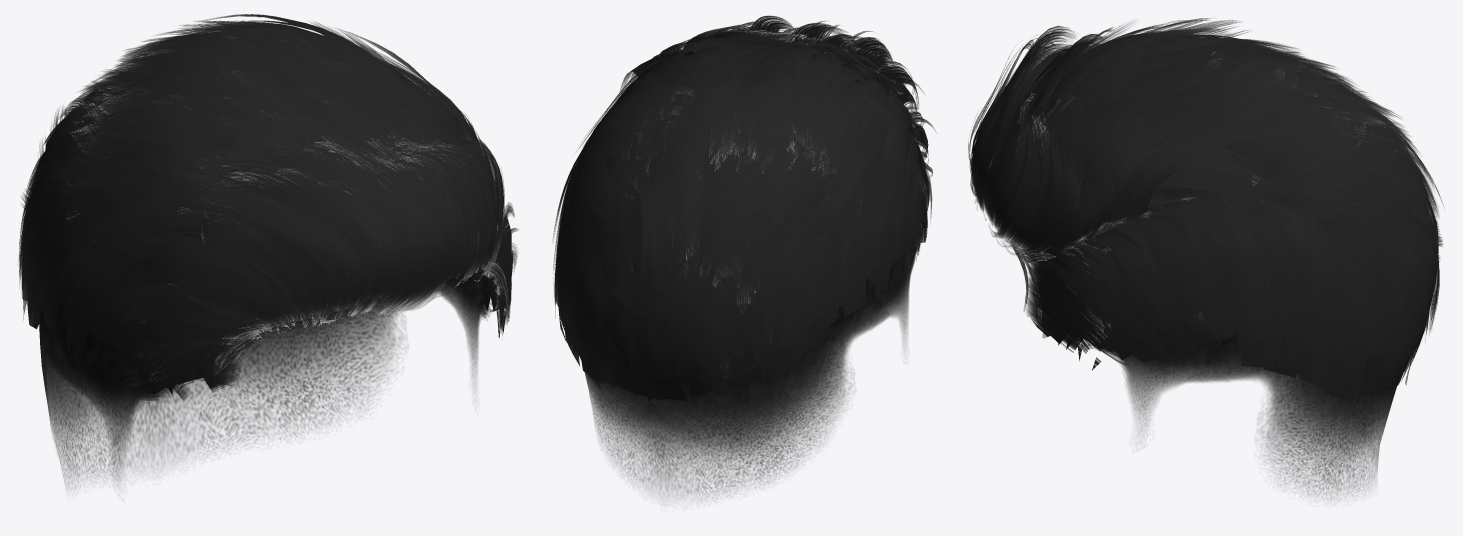
Rendered from oval_straight_quiff.glb.
3 views of the same model, side by side, from view 1: azimuth 30°, elevation 25°; view 2: azimuth 150°, elevation 25°; view 3: azimuth 270°, elevation 25° (orthographic). The views are drawn at different scales.
Visible parts, largest first — view 1: Quiff.001, Scalp; view 2: Quiff.001, Scalp; view 3: Quiff.001, Scalp.
Part boxes in pixels (bbox=[...]): Quiff.001: bbox=[19, 14, 518, 400]; Scalp: bbox=[39, 266, 490, 488]; Quiff.001: bbox=[552, 15, 936, 401]; Scalp: bbox=[584, 160, 916, 499]; Quiff.001: bbox=[968, 18, 1443, 400]; Scalp: bbox=[1021, 198, 1396, 500].
Size of the model in its own units: 0.2716 by 0.345 by 0.3275.
Materials: 2 (2 with a texture image).
